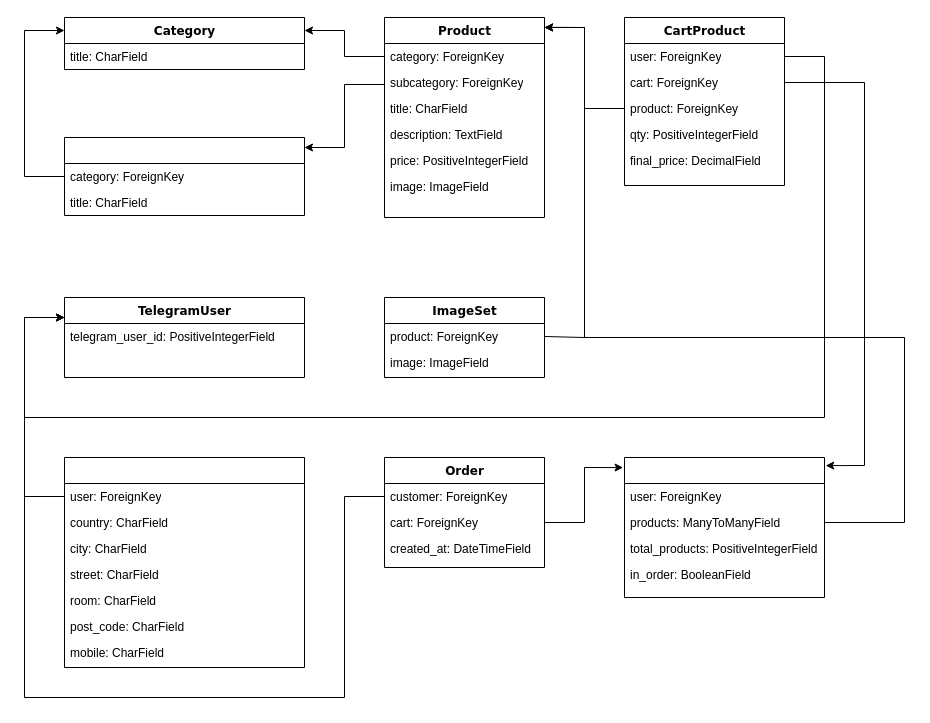
Some shapes in this 930 by 723 pixel diagram are drawn without their labels. The box of each missing label's shape, as (x1, y1, x2, y2) in pixels:
Address: (64, 456, 304, 668)
Cart: (624, 456, 824, 598)
Subcategory: (64, 136, 304, 216)
